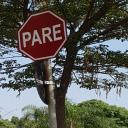Pare: (13, 9, 70, 62)
